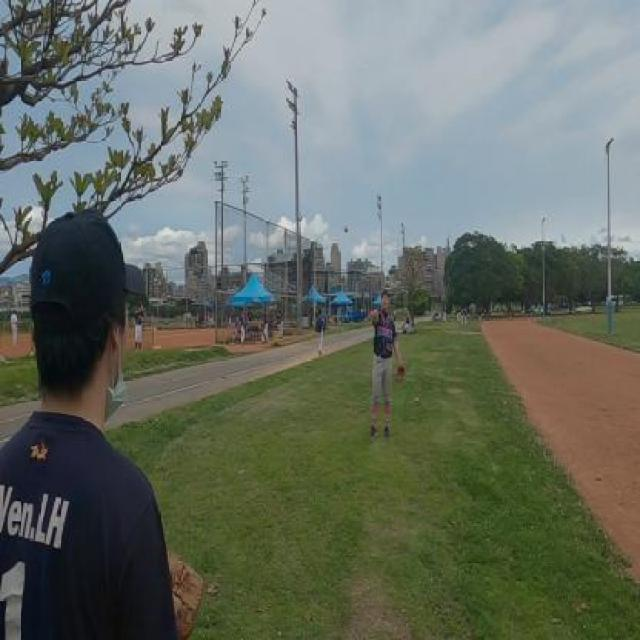baseball: (344, 225, 348, 233)
